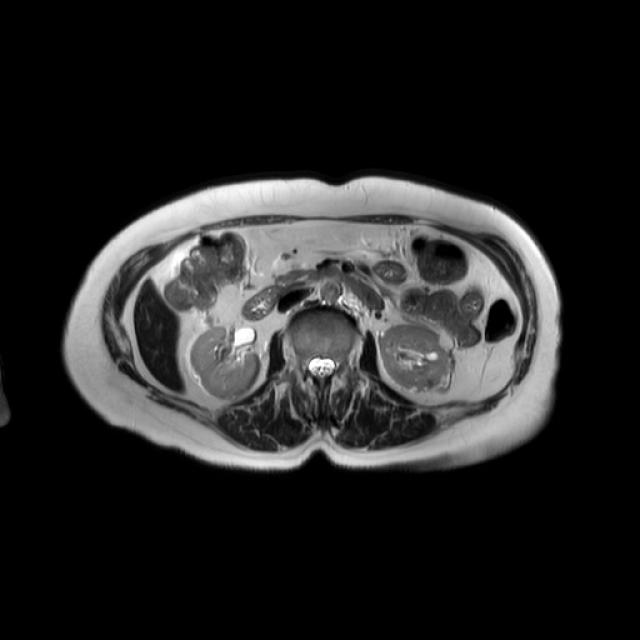sag: (188, 324, 262, 403)
sol: (379, 325, 455, 392)
